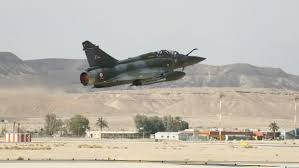fighter: (73, 38, 210, 91)
